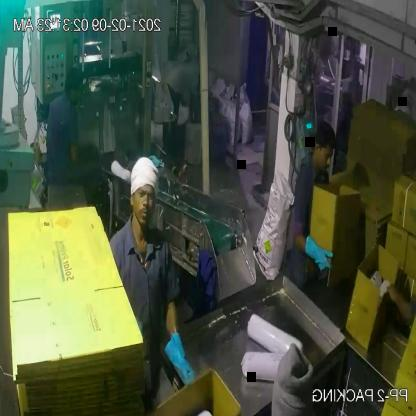glove: (161, 324, 202, 397), (298, 230, 338, 280)
no_glove: (378, 271, 415, 337)
